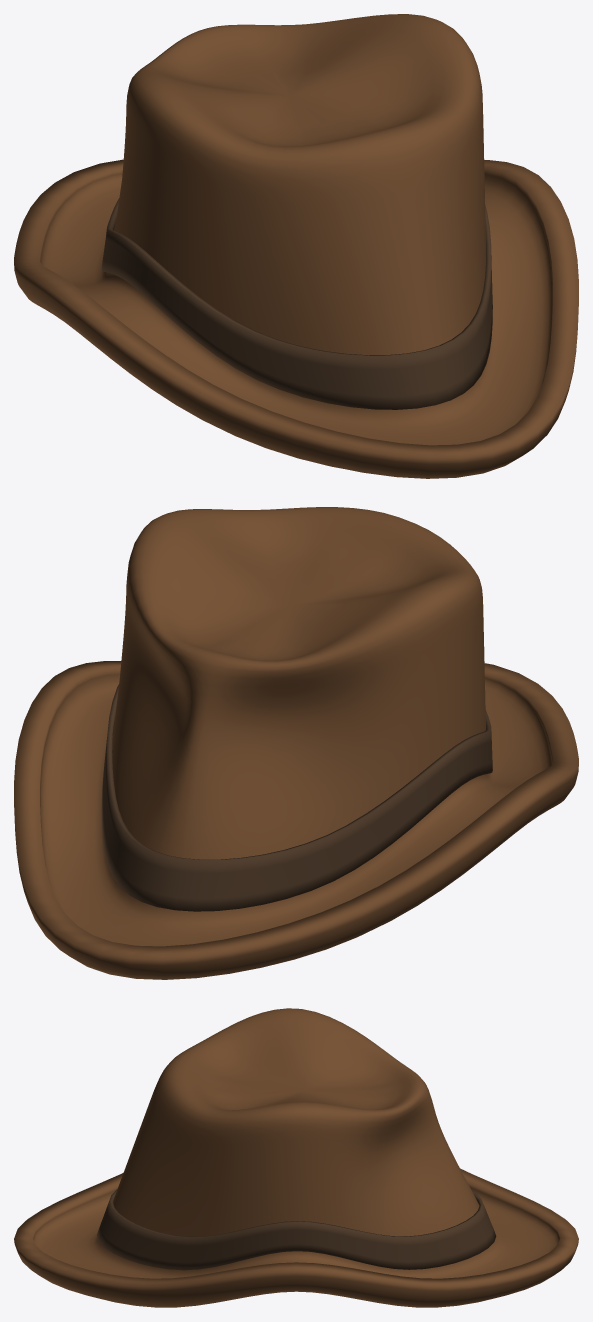
Rendered from yeehaw.fbx.
The picture shows the model from 3 angles, top to bottom: view 1: azimuth 30°, elevation 25°; view 2: azimuth 150°, elevation 25°; view 3: azimuth 270°, elevation 25°; orthographic projection. The views are drawn at different scales.
Visible parts, largest first — view 1: Cylinder.005, Cylinder.001; view 2: Cylinder.005, Cylinder.001; view 3: Cylinder.005, Cylinder.001.
Part boxes in pixels (box(x1,y1,x2,y2)): Cylinder.005: box(14, 14, 578, 478); Cylinder.001: box(101, 198, 492, 409); Cylinder.005: box(14, 507, 578, 979); Cylinder.001: box(101, 684, 492, 911); Cylinder.005: box(14, 1008, 578, 1307); Cylinder.001: box(96, 1189, 496, 1270).
Bounding box in the file's own units: 10.75 × 6.11 × 15.15.
